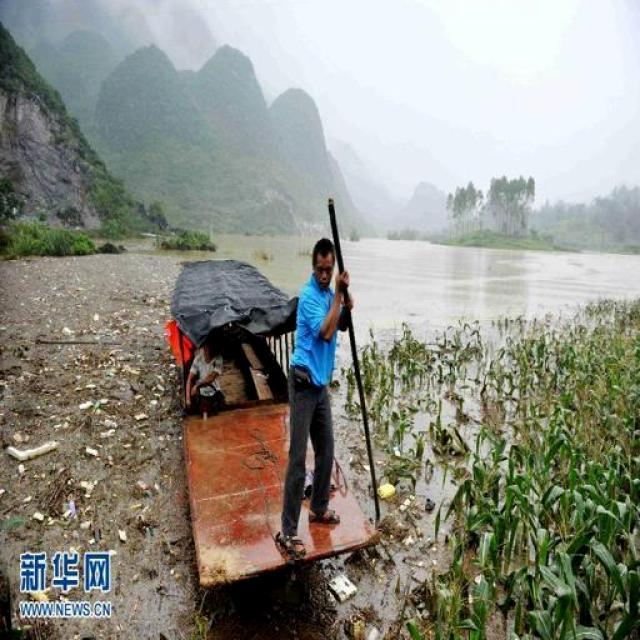civilian: (271, 216, 376, 564)
